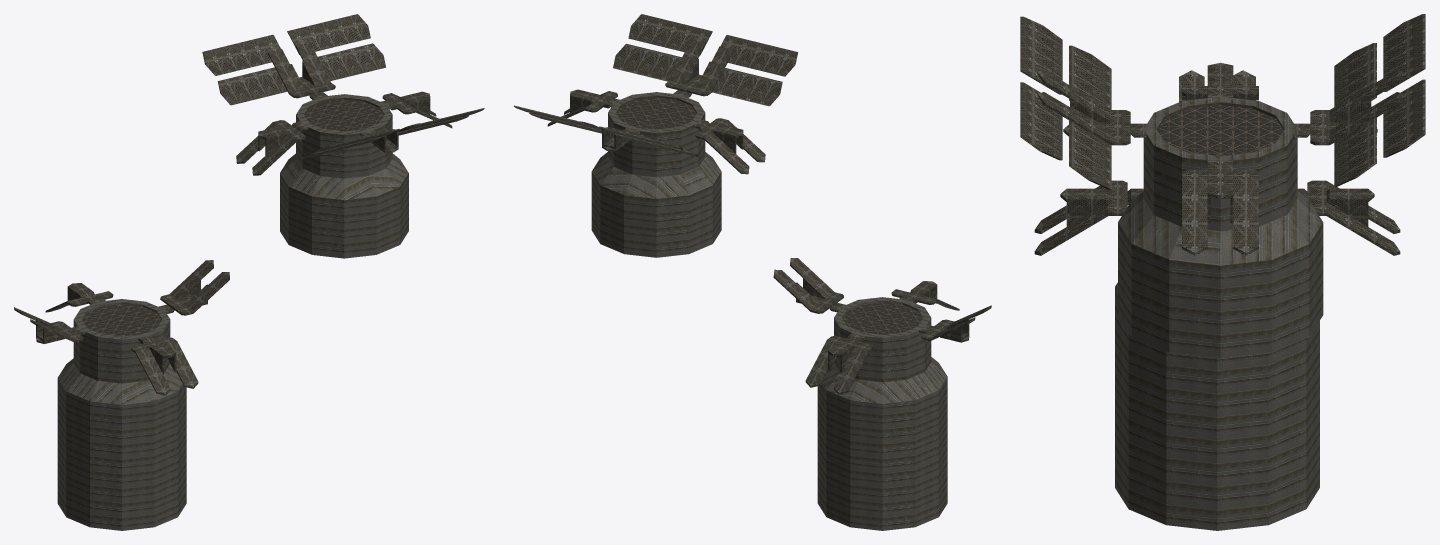
Rendered from Midabstract.fbx.
The picture shows the model from 3 angles, left to right: view 1: azimuth 30°, elevation 25°; view 2: azimuth 150°, elevation 25°; view 3: azimuth 270°, elevation 25°; orthographic projection. The views are drawn at different scales.
Parts seen in each view (by area): view 1: Object; view 2: Object; view 3: Object.
Boxes of the visible parts, x1,y1,x2,y2 form: Object: (14, 14, 484, 530); Object: (513, 14, 991, 530); Object: (1020, 14, 1425, 530).
Size of the model in its own units: 24200 by 20188 by 12644.
